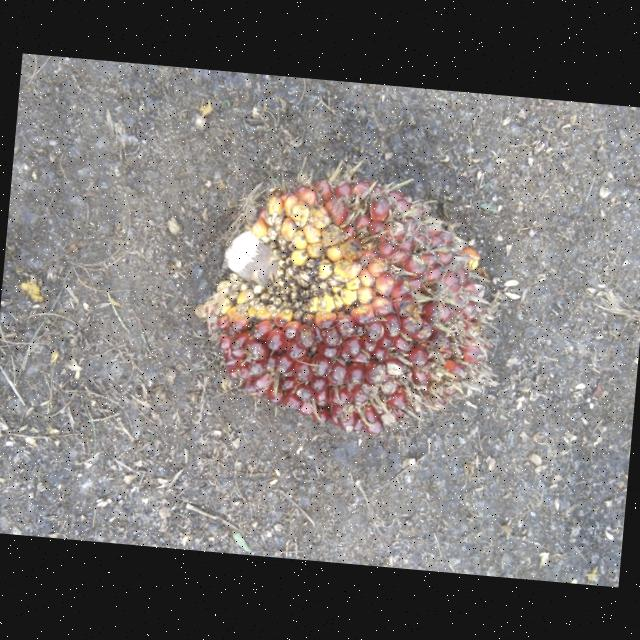Ripe: (200, 171, 500, 439)
